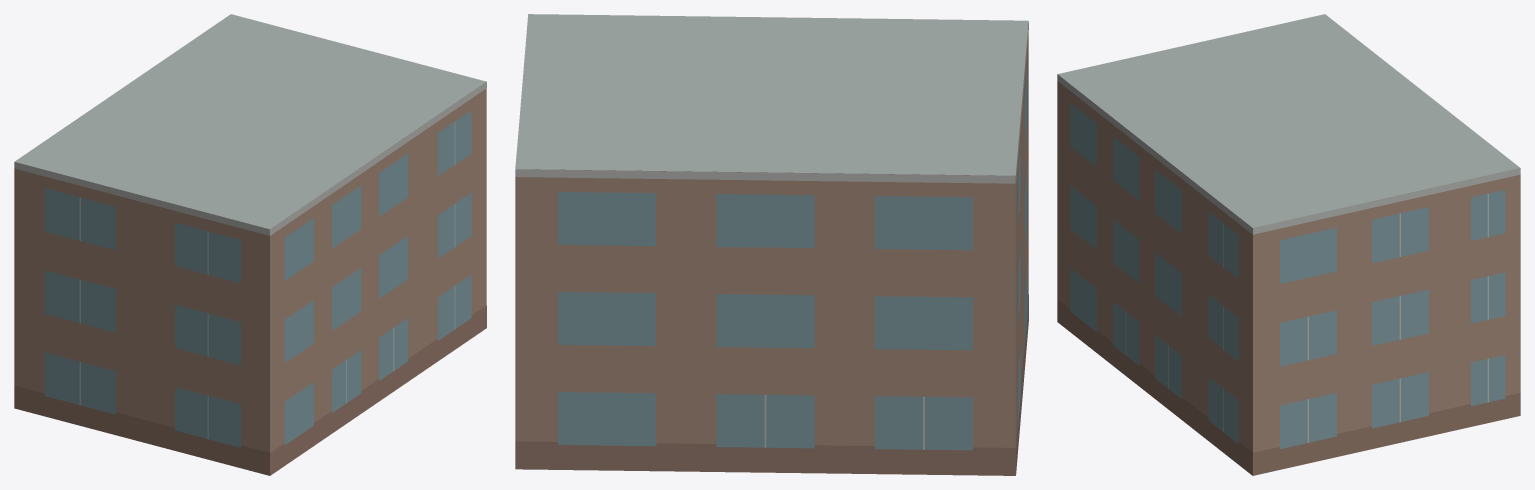
File: survey-upis-32704063.glb
3 renders of one model, left to right at view 1: azimuth 30°, elevation 25°; view 2: azimuth 150°, elevation 25°; view 3: azimuth 270°, elevation 25°, orthographic. The views are drawn at different scales.
Visible parts, largest first — view 1: survey-upis-32704063.tmp; view 2: survey-upis-32704063.tmp; view 3: survey-upis-32704063.tmp.
Part boxes in pixels (box(x1,y1,x2,y2)): survey-upis-32704063.tmp: box(14, 14, 486, 475); survey-upis-32704063.tmp: box(515, 14, 1028, 475); survey-upis-32704063.tmp: box(1057, 14, 1520, 475).
Bounding box in the file's own units: 16.96 × 9.15 × 15.51.
